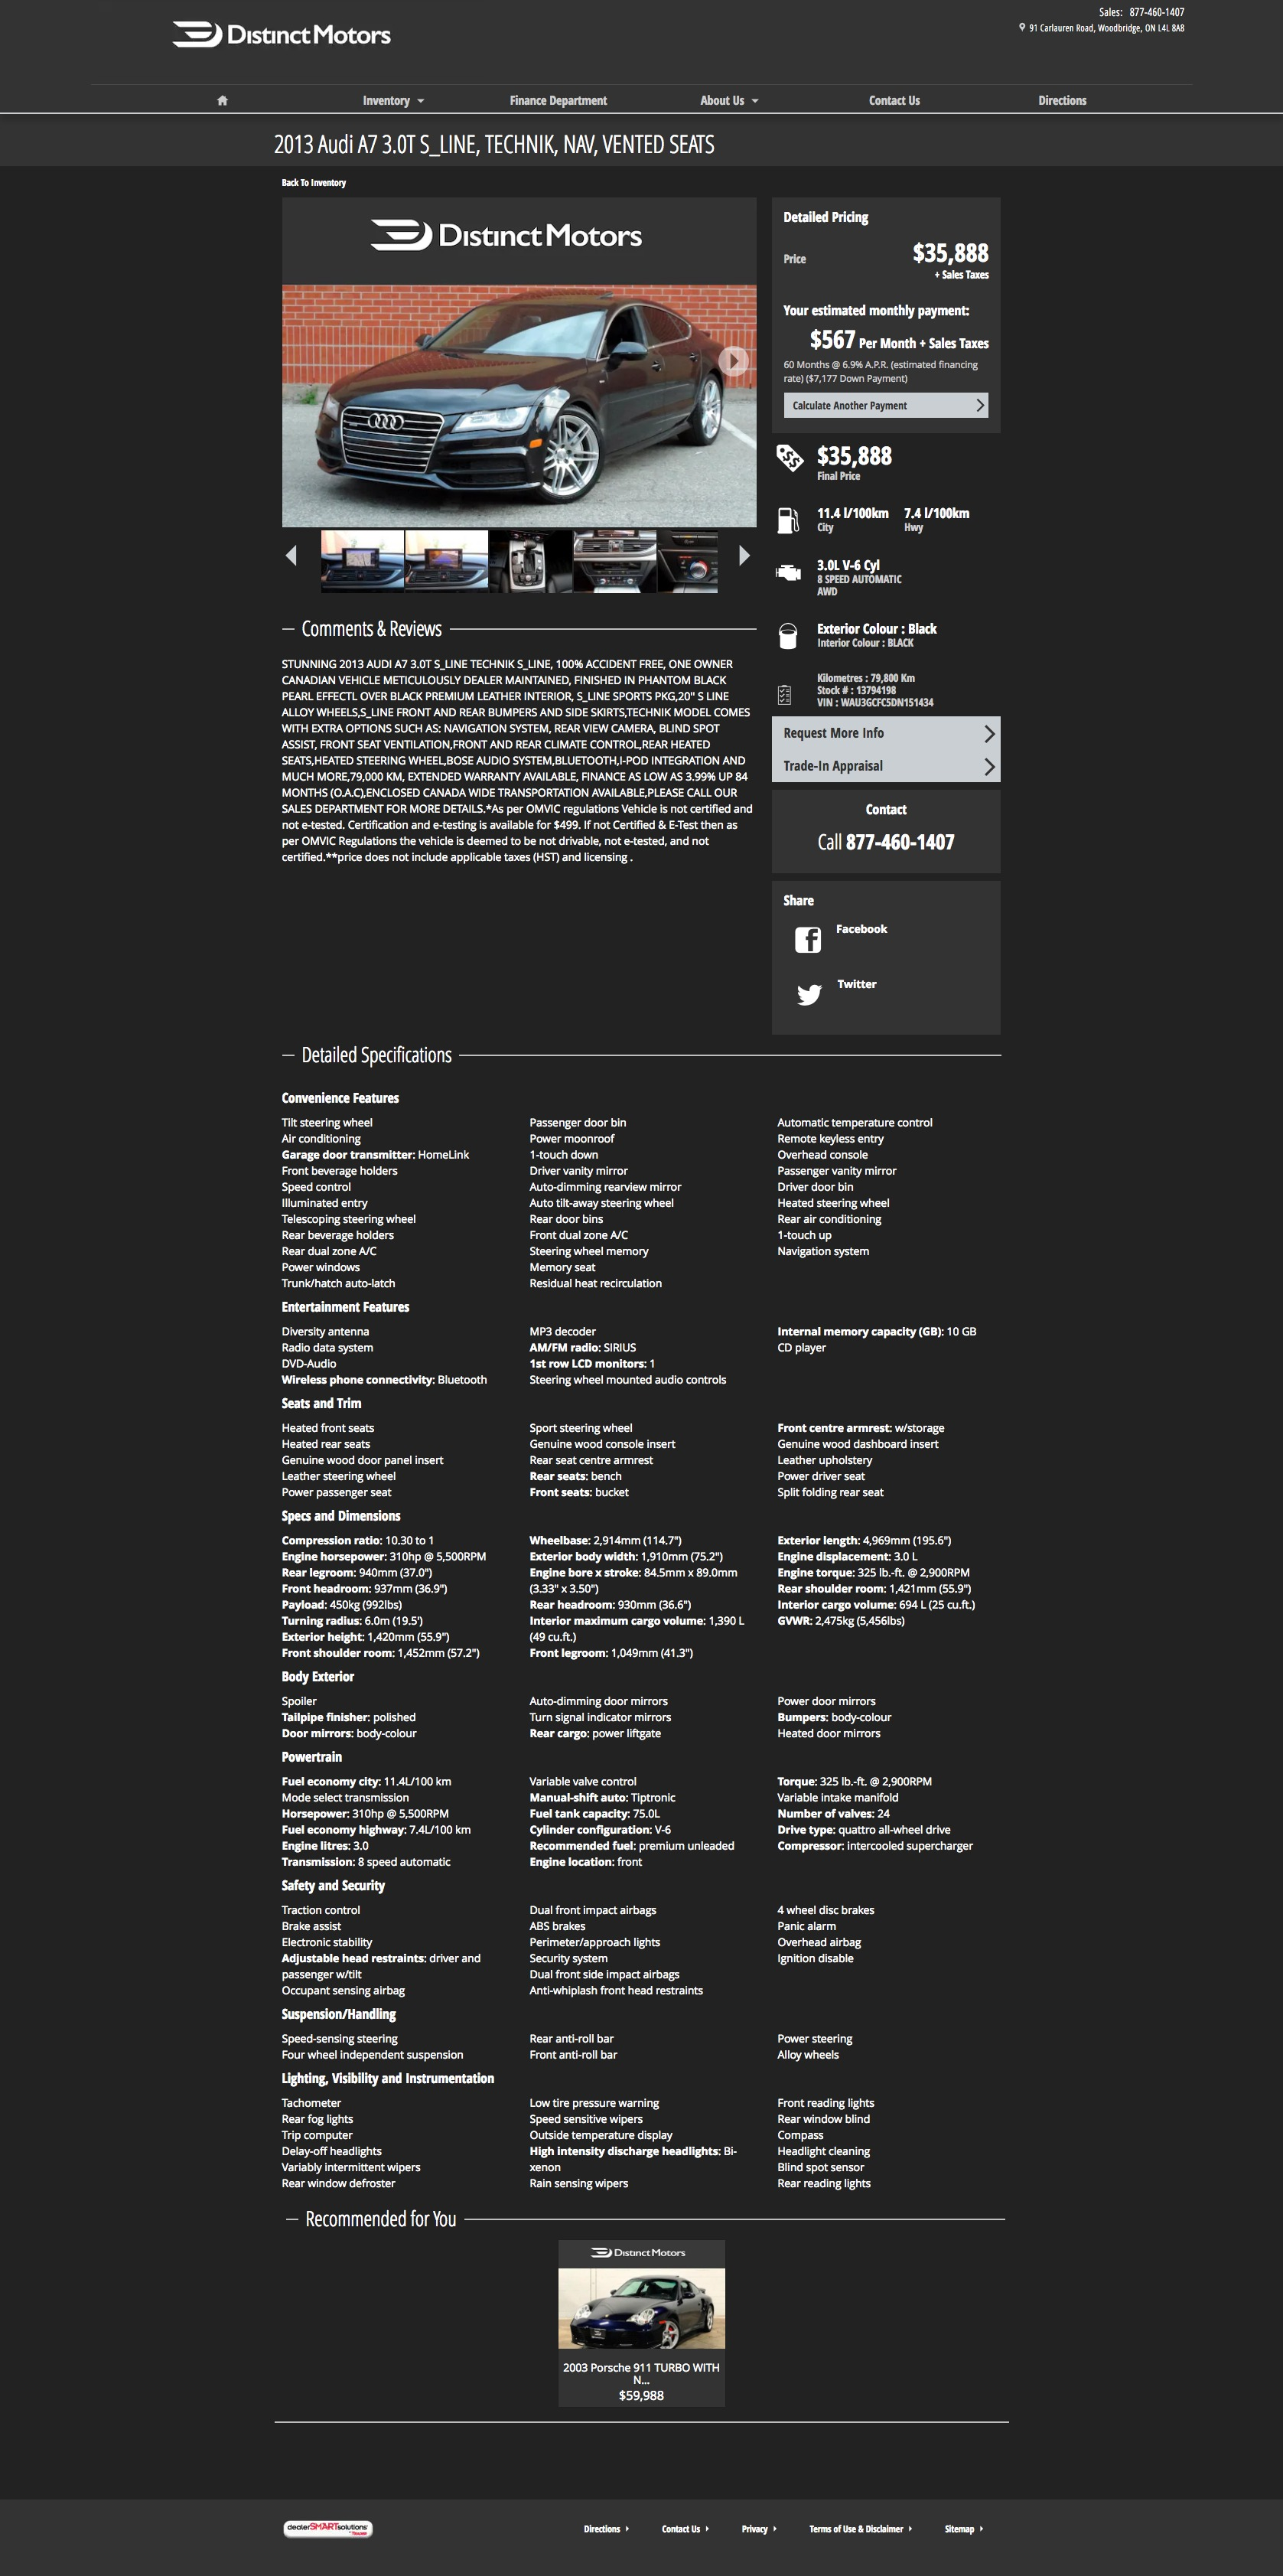car: (739, 545, 751, 568)
